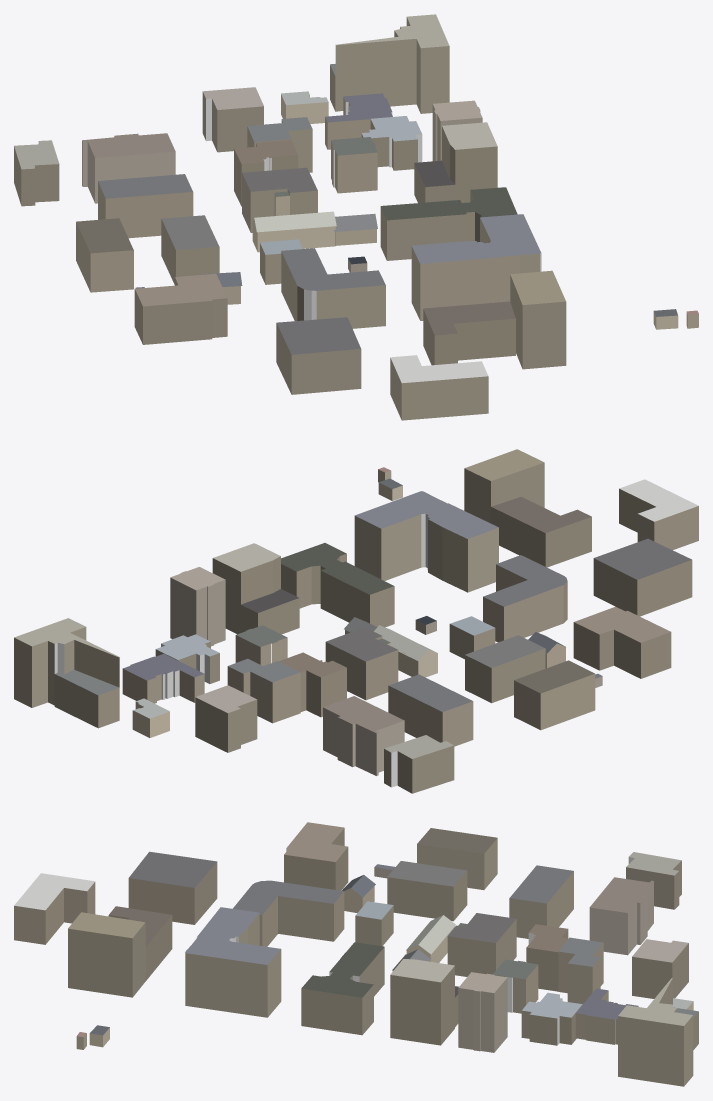
3 renders of one model, top to bottom at view 1: azimuth 30°, elevation 25°; view 2: azimuth 150°, elevation 25°; view 3: azimuth 270°, elevation 25°, orthographic. The views are drawn at different scales.
Visible parts, largest first — view 1: tuile; view 2: tuile; view 3: tuile.
Boxes of the visible parts, x1,y1,x2,y2 form: tuile: (14,14,698,420); tuile: (14,449,698,793); tuile: (14,822,698,1086).
Bounding box in the file's own units: 195 × 28.96 × 252.
